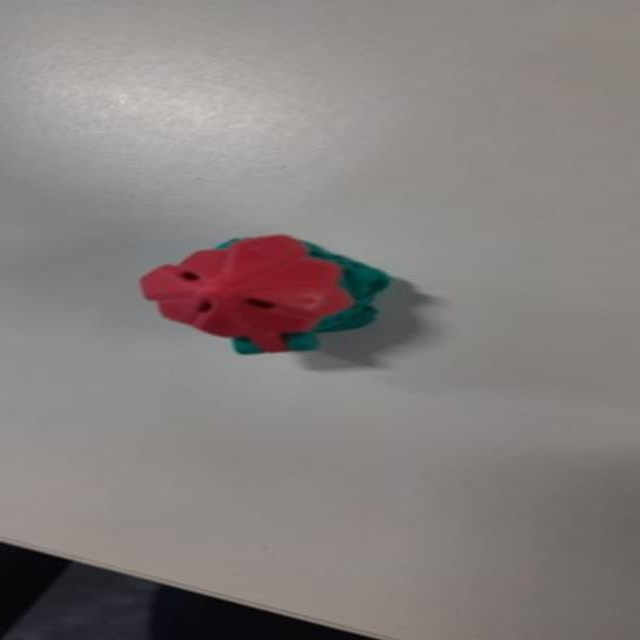House: (136, 234, 407, 357)
